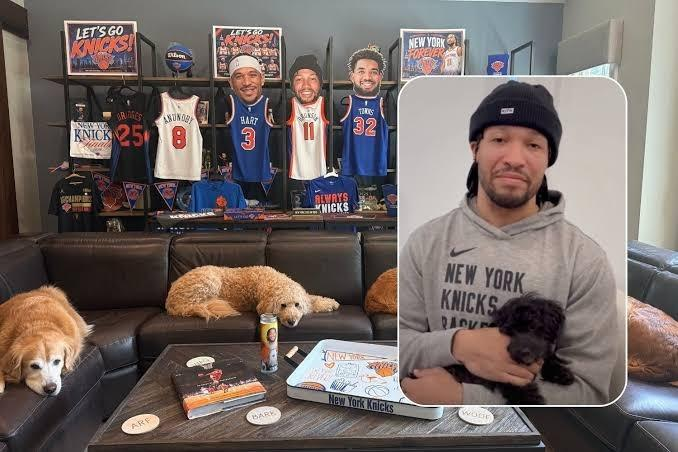adult_dog: (363, 267, 678, 386), (165, 265, 341, 328), (0, 284, 95, 397)
puppy-dog: (449, 292, 575, 405)
